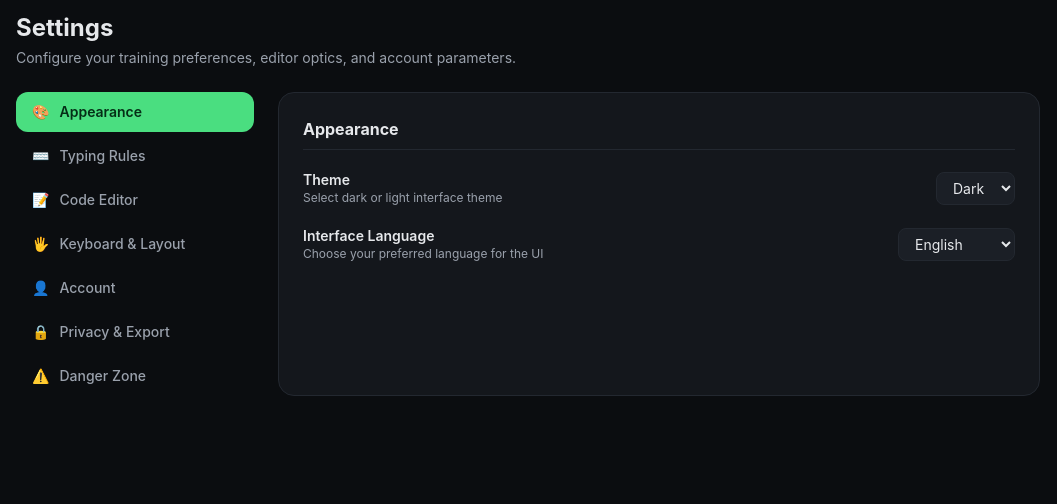
Test case: SettingsPage (AC-UM-8, AC-UM-9, AC-UM-11) › renders settings navigation and switches across all 7 sections
Expected: the heading "Appearance" is shown, x1=303 y1=117 x2=1015 y2=150
Typing rules tab
Click the text "Typing Rules": (103, 156) x1=60 y1=146 x2=146 y2=166
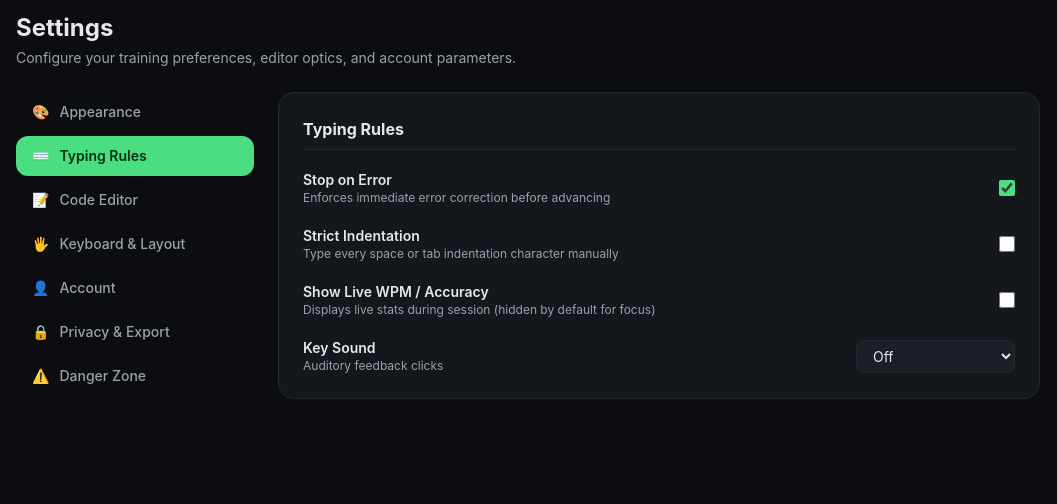
Now the text "Stop on Error" is shown, box x1=303 y1=171 x2=392 y2=188
Code editor tab
Click the text "Code Editor": (99, 200) x1=60 y1=190 x2=138 y2=210
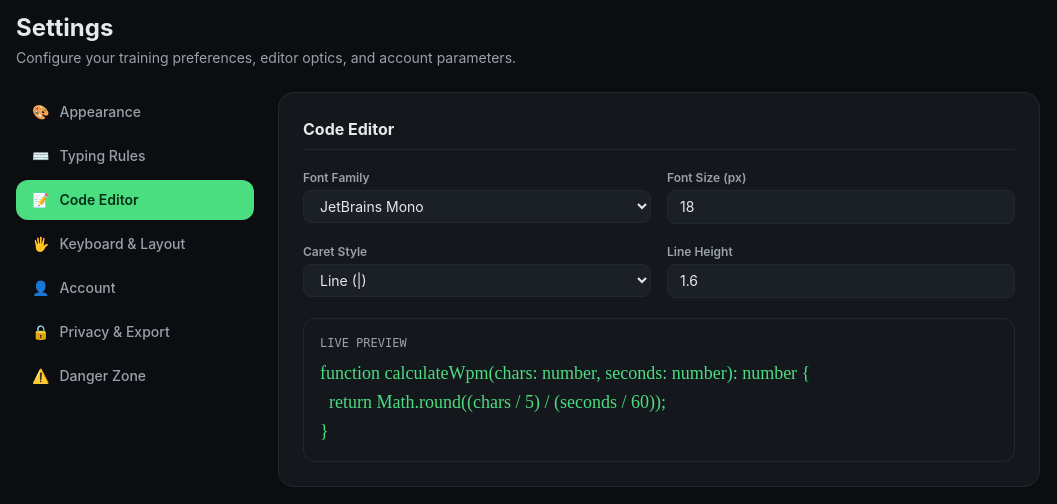
Now the text "Font Family" is shown, box x1=303 y1=170 x2=370 y2=185
Now the text "Live Preview" is shown, box x1=320 y1=336 x2=407 y2=350
Keyboard tab
Click the text "Keyboard & Layout": (122, 244) x1=60 y1=234 x2=185 y2=254
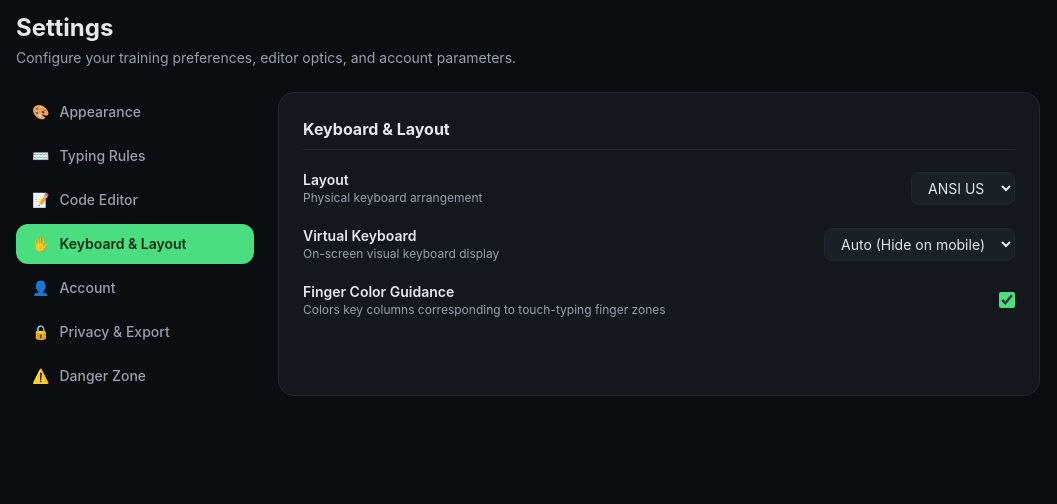
Now the text "Finger Color Guidance" is shown, box x1=303 y1=283 x2=454 y2=300
Account tab (AC-UM-8)
Click the text "Account": (88, 288) x1=60 y1=278 x2=116 y2=298
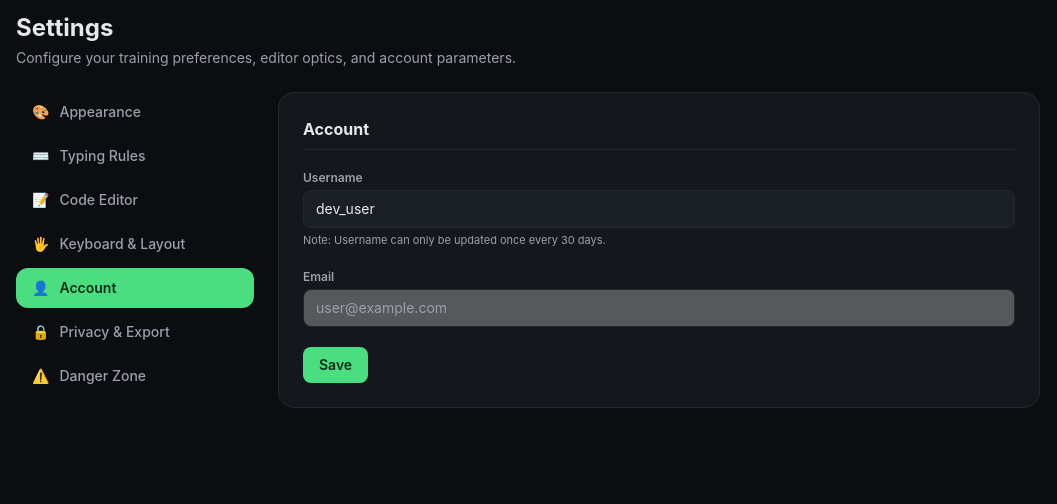
Now the 1st field showing "dev_user" is shown, box x1=303 y1=190 x2=1015 y2=228
Now the text "Note: Username can only be updated once every 30 days." is shown, box x1=303 y1=233 x2=606 y2=247
Privacy & Export tab (AC-UM-11)
Click the text "Privacy & Export": (115, 332) x1=60 y1=322 x2=170 y2=342
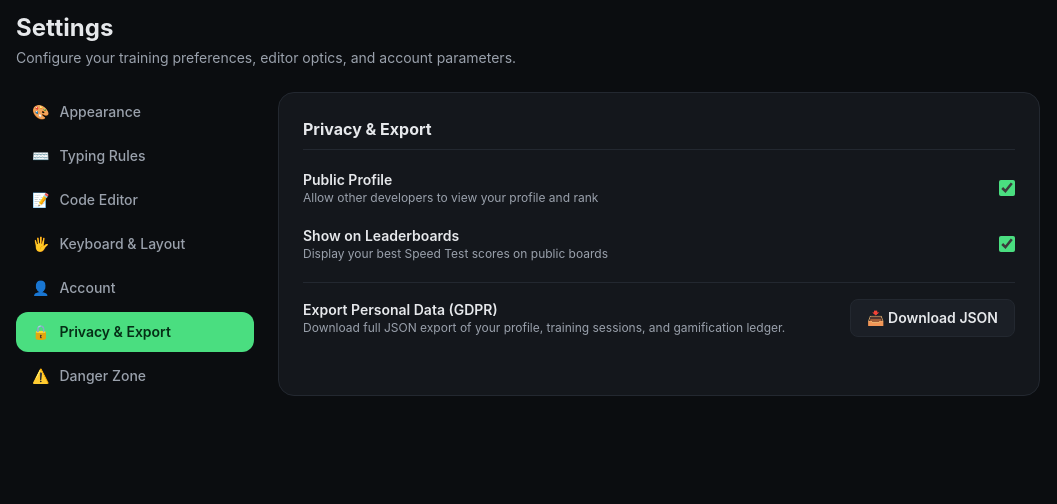
Now the text "Export Personal Data (GDPR)" is shown, box x1=303 y1=301 x2=498 y2=318
Now the button "📥 Download JSON" is shown, box x1=850 y1=299 x2=1015 y2=337
Danger Zone tab (AC-UM-11)
Click the text "Danger Zone": (103, 376) x1=60 y1=366 x2=146 y2=386
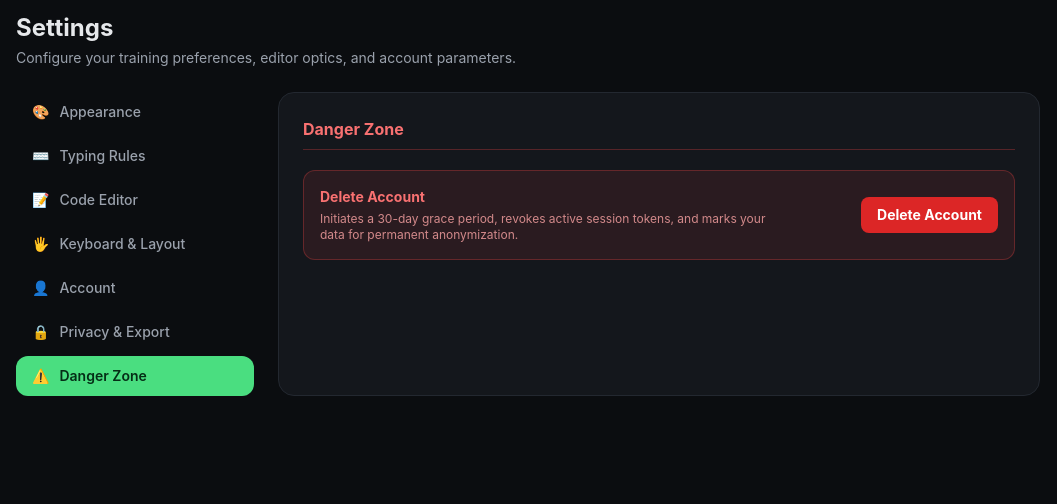
Now the button "Delete Account" is shown, box x1=861 y1=197 x2=998 y2=233
